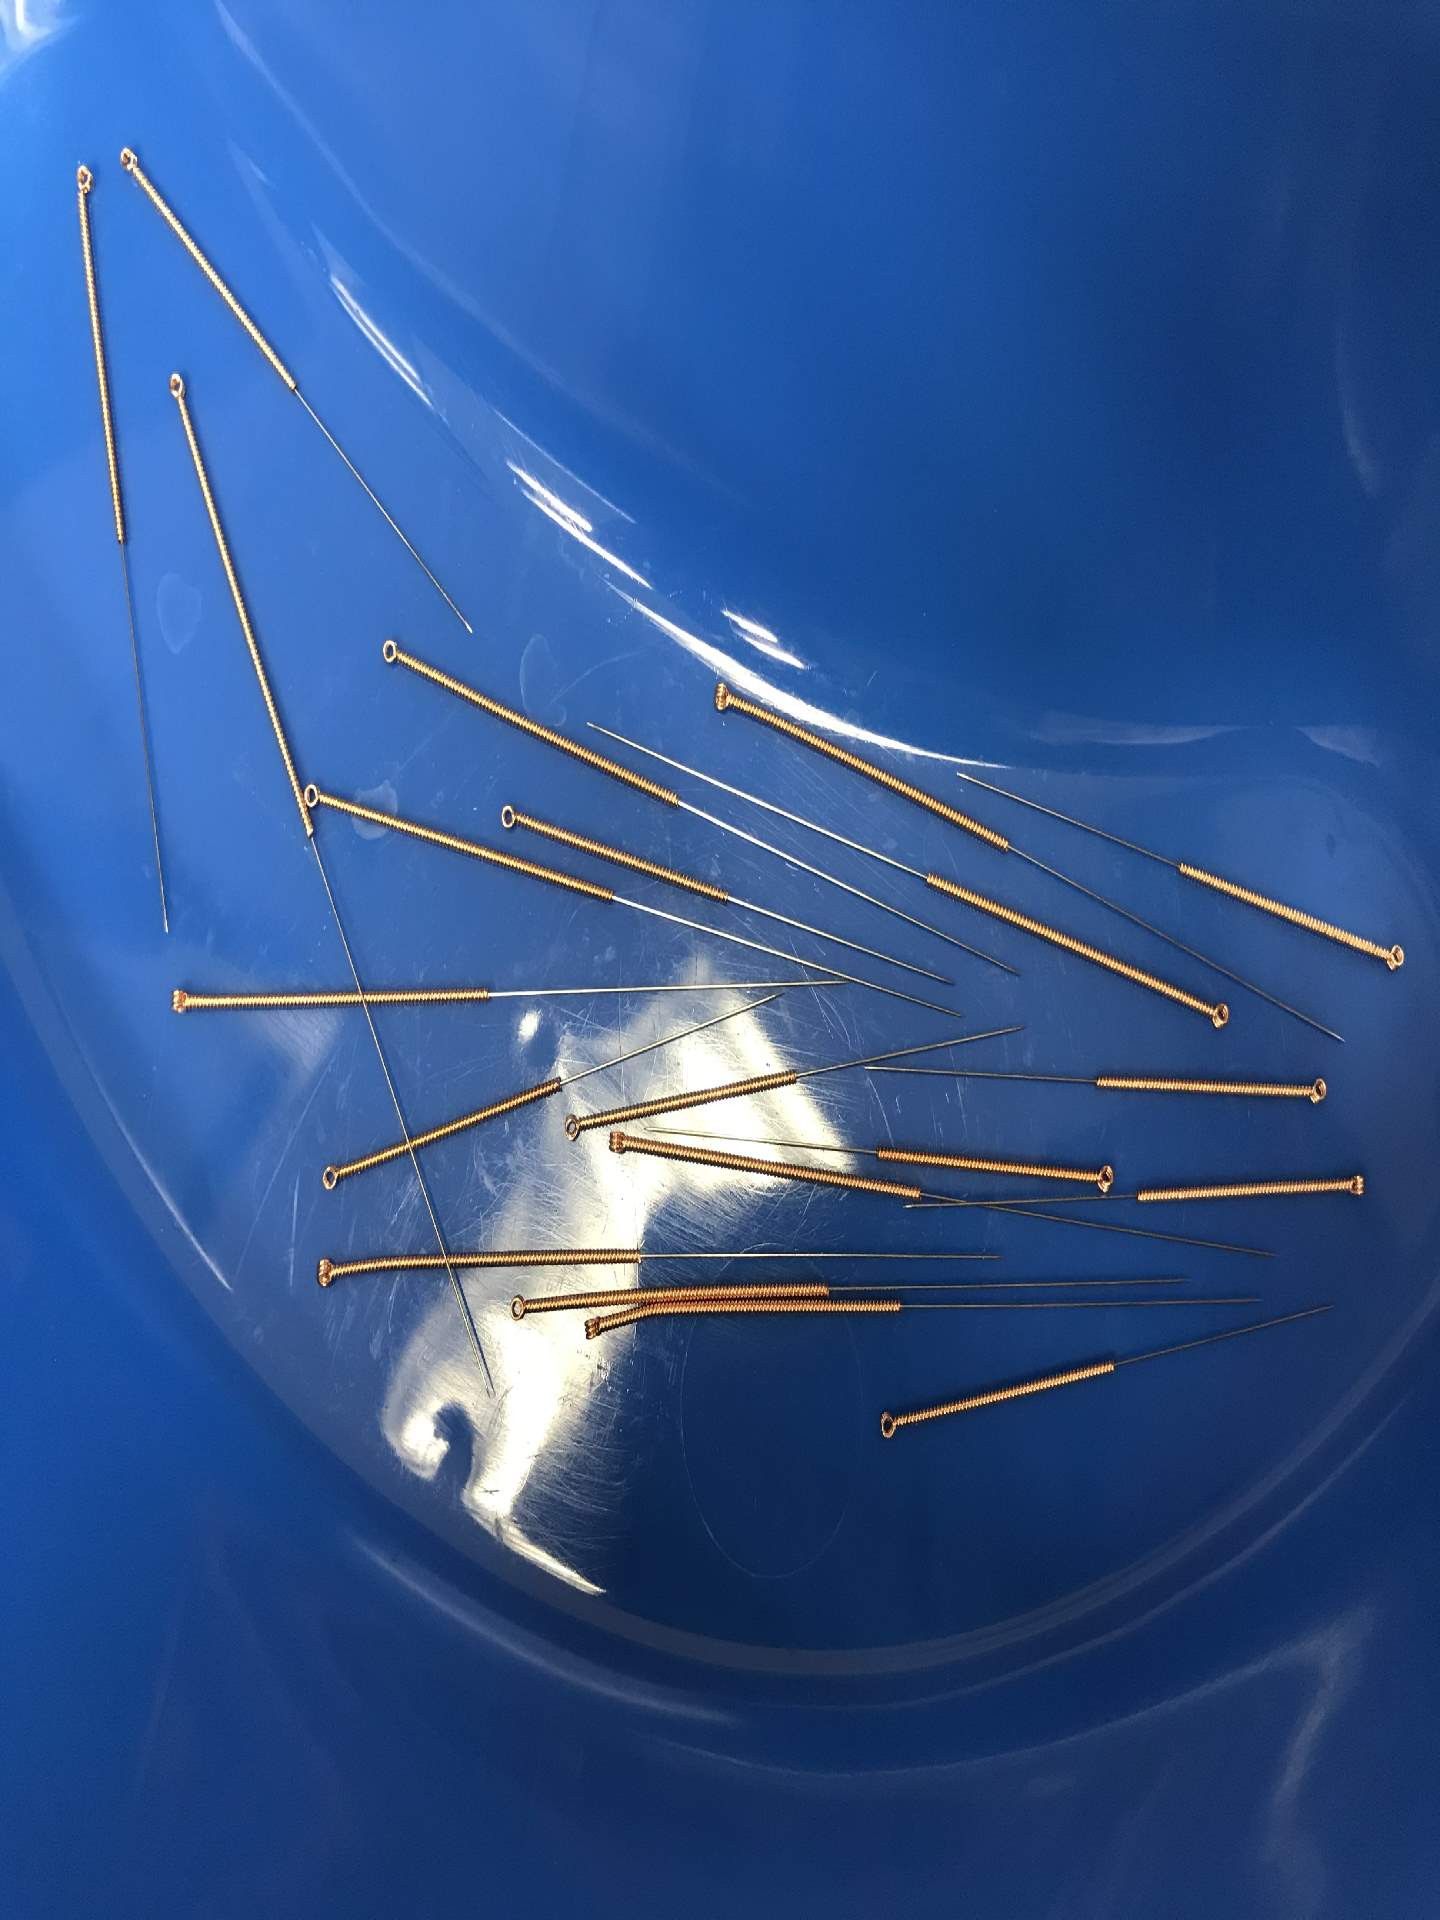needle: (306, 1249, 348, 1299), (312, 1154, 352, 1200), (64, 156, 98, 210), (867, 1403, 911, 1445), (1295, 1066, 1334, 1113), (1078, 1154, 1119, 1196), (703, 674, 743, 718), (1333, 1163, 1372, 1206), (1199, 990, 1237, 1036), (112, 136, 145, 187), (498, 1285, 538, 1326), (160, 981, 200, 1022), (601, 1123, 638, 1166), (1375, 930, 1411, 974), (160, 364, 194, 411), (573, 1309, 613, 1349), (372, 627, 408, 670), (492, 798, 529, 838), (299, 776, 336, 816), (555, 1107, 588, 1146)
